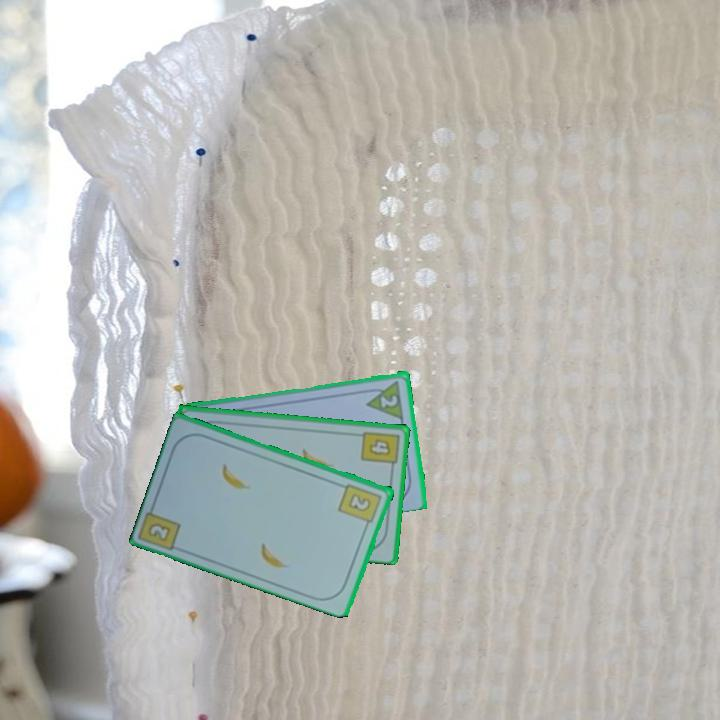2b: (335, 480, 385, 531), (145, 519, 174, 544)
2p: (377, 391, 401, 410)
4b: (358, 428, 402, 473)
